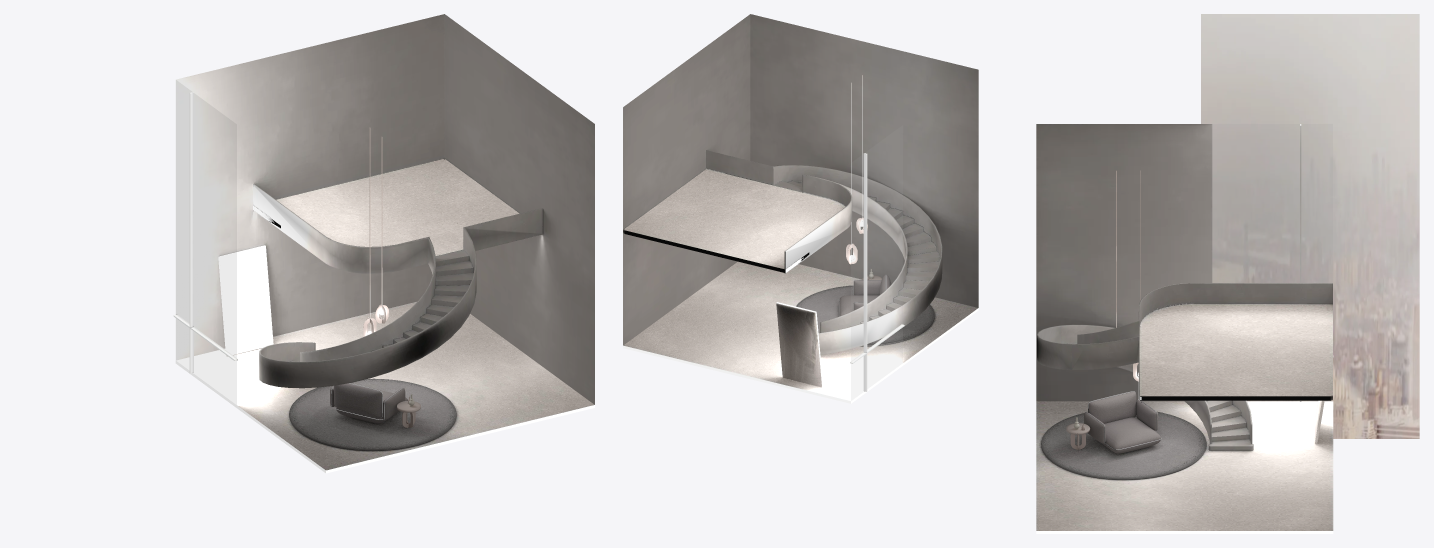
File: apart-transformed.glb
3 renders of one model, left to right at view 1: azimuth 30°, elevation 25°; view 2: azimuth 150°, elevation 25°; view 3: azimuth 270°, elevation 25°, orthographic. The views are drawn at different scales.
Parts seen in each view (by area): view 1: House, floor, Stairs, 2nd_floor, carpet, painting, sofa, lighting; view 2: House, floor, Stairs, 2nd_floor, painting, carpet, sofa, lighting; view 3: outside, House, floor, 2nd_floor, Stairs, carpet, sofa.
Part boxes in pixels (<box>): House: <box>173,14,594,404</box>; floor: <box>175,302,594,473</box>; Stairs: <box>253,184,542,388</box>; 2nd_floor: <box>253,159,519,255</box>; carpet: <box>289,378,456,450</box>; painting: <box>218,245,273,356</box>; sofa: <box>330,382,407,423</box>; lighting: <box>363,128,388,336</box>; House: <box>623,14,978,391</box>; floor: <box>623,261,978,403</box>; Stairs: <box>706,150,942,355</box>; 2nd_floor: <box>624,169,845,272</box>; painting: <box>776,302,822,387</box>; carpet: <box>796,285,934,346</box>; sofa: <box>839,275,891,315</box>; lighting: <box>846,75,867,264</box>; outside: <box>1201,14,1419,438</box>; House: <box>1036,124,1333,401</box>; floor: <box>1036,401,1333,533</box>; 2nd_floor: <box>1139,304,1332,400</box>; Stairs: <box>1037,283,1332,450</box>; carpet: <box>1041,411,1206,479</box>; sofa: <box>1084,391,1160,453</box>.
Bounding box in the file's own units: 11.79 × 12.54 × 10.24.
Materials: 15 (12 with a texture image).
